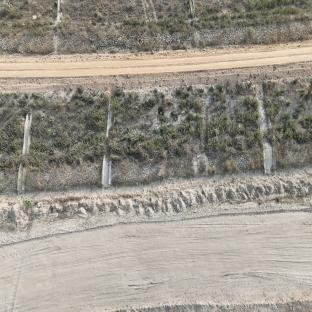rock_toe: (112, 156, 192, 186), (26, 165, 101, 189), (208, 142, 263, 172), (277, 142, 312, 169), (0, 172, 18, 192), (191, 132, 192, 133)
slope_drain: (253, 80, 277, 176), (100, 93, 117, 186), (16, 112, 33, 191)
toe_drain: (0, 164, 311, 206)
